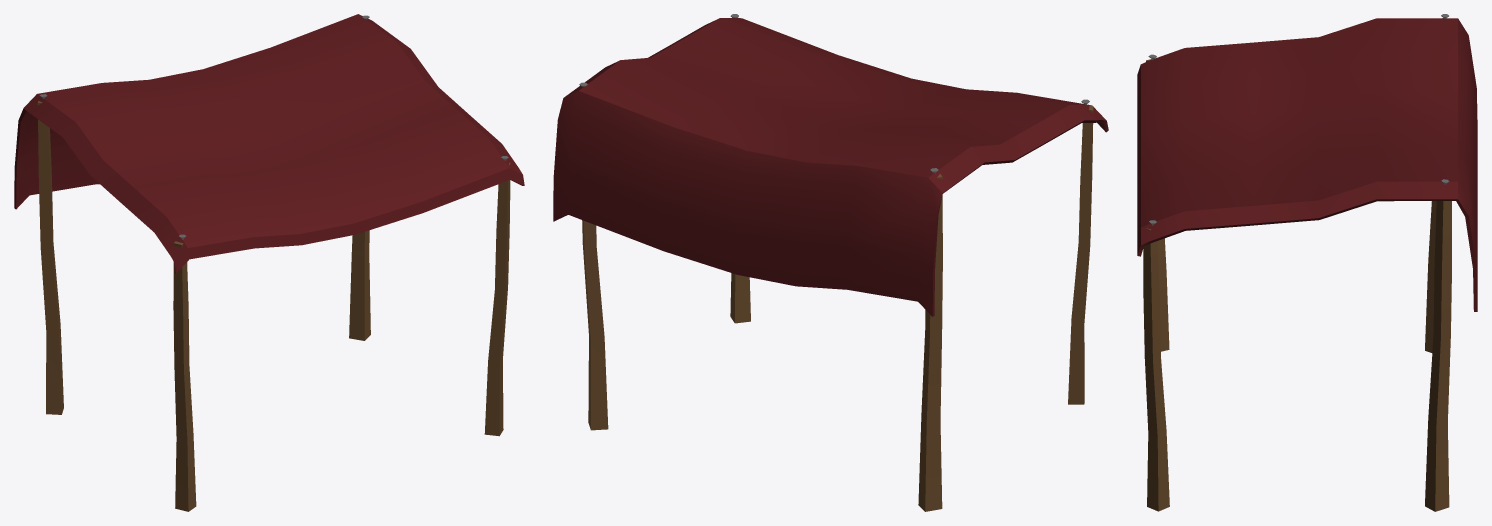
Rendered from marketplace.fbx.
The picture shows the model from 3 angles, left to right: view 1: azimuth 30°, elevation 25°; view 2: azimuth 150°, elevation 25°; view 3: azimuth 270°, elevation 25°; orthographic projection. The views are drawn at different scales.
Visible parts, largest first — view 1: Plane; view 2: Plane; view 3: Plane.
Part boxes in pixels (<box>): Plane: <box>14,14,524,511</box>; Plane: <box>553,14,1108,511</box>; Plane: <box>1137,14,1477,511</box>.
Size of the model in its own units: 879 by 758 by 707.
